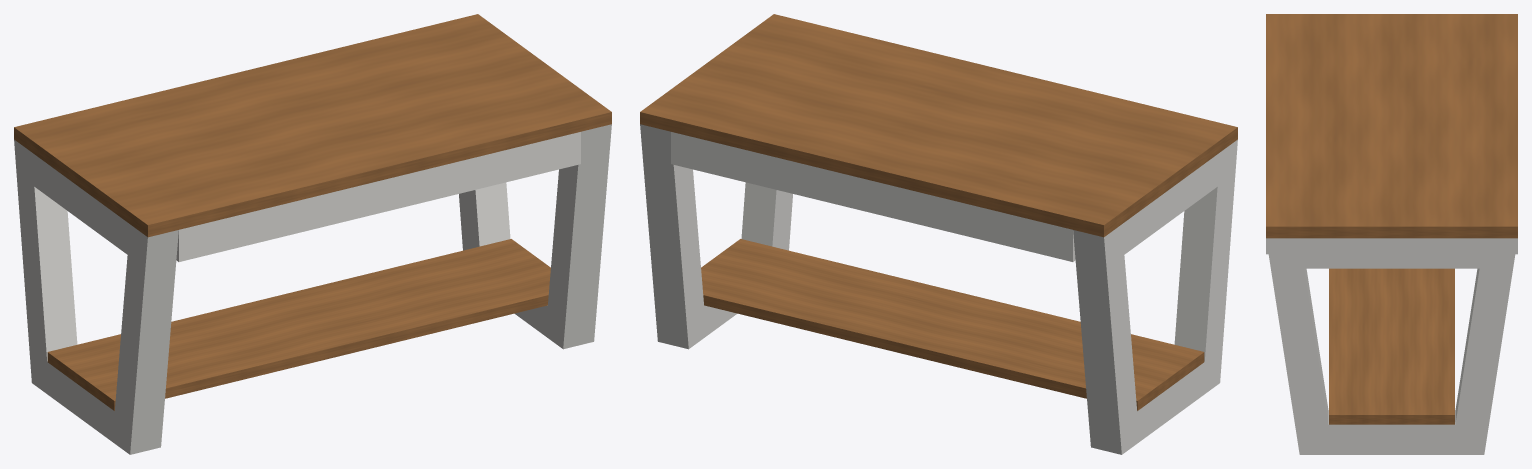
Rendered from mesa-living-nord-estante-roble-blanco-8cm.glb.
3 views of the same model, side by side, from view 1: azimuth 30°, elevation 25°; view 2: azimuth 150°, elevation 25°; view 3: azimuth 270°, elevation 25° (orthographic). The views are drawn at different scales.
Parts seen in each view (by area): view 1: Tapa de madera maciza 120 x 60 x 3 cm, Patas inclinadas con cortes a inglete, Estante inferior de madera de 120 cm (proporción aproximada), Larguero longitudinal superior de hierro 8 x 8 mm, Travesaño superior del trapecio, perfil 8 cm, Travesaño inferior del trapecio, perfil 8 cm (×2); view 2: Tapa de madera maciza 120 x 60 x 3 cm, Patas inclinadas con cortes a inglete, Estante inferior de madera de 120 cm (proporción aproximada), Larguero longitudinal superior de hierro 8 x 8 mm, Travesaño superior del trapecio, perfil 8 cm, Travesaño inferior del trapecio, perfil 8 cm; view 3: Tapa de madera maciza 120 x 60 x 3 cm, Estante inferior de madera de 120 cm (proporción aproximada), Patas inclinadas con cortes a inglete, Travesaño superior del trapecio, perfil 8 cm, Travesaño inferior del trapecio, perfil 8 cm.
Part boxes in pixels (x1,y1,x2,y2): Tapa de madera maciza 120 x 60 x 3 cm: (14,14,611,237); Patas inclinadas con cortes a inglete: (14,124,611,454); Estante inferior de madera de 120 cm (proporción aproximada): (47,239,550,410); Larguero longitudinal superior de hierro 8 x 8 mm: (176,132,580,261); Travesaño superior del trapecio, perfil 8 cm: (32,153,138,262); Travesaño inferior del trapecio, perfil 8 cm (×2): (47,305,554,446); Tapa de madera maciza 120 x 60 x 3 cm: (640,14,1237,237); Patas inclinadas con cortes a inglete: (640,124,1237,454); Estante inferior de madera de 120 cm (proporción aproximada): (701,239,1204,410); Larguero longitudinal superior de hierro 8 x 8 mm: (671,132,1075,261); Travesaño superior del trapecio, perfil 8 cm: (1113,146,1228,254); Travesaño inferior del trapecio, perfil 8 cm: (1137,362,1204,441); Tapa de madera maciza 120 x 60 x 3 cm: (1266,14,1517,238); Estante inferior de madera de 120 cm (proporción aproximada): (1329,268,1454,424); Patas inclinadas con cortes a inglete: (1266,238,1517,454); Travesaño superior del trapecio, perfil 8 cm: (1283,238,1500,268); Travesaño inferior del trapecio, perfil 8 cm: (1316,410,1467,454).
Size of the model in its own units: 1.2 by 0.6 by 0.6.
Materials: 2 (1 with a texture image).
